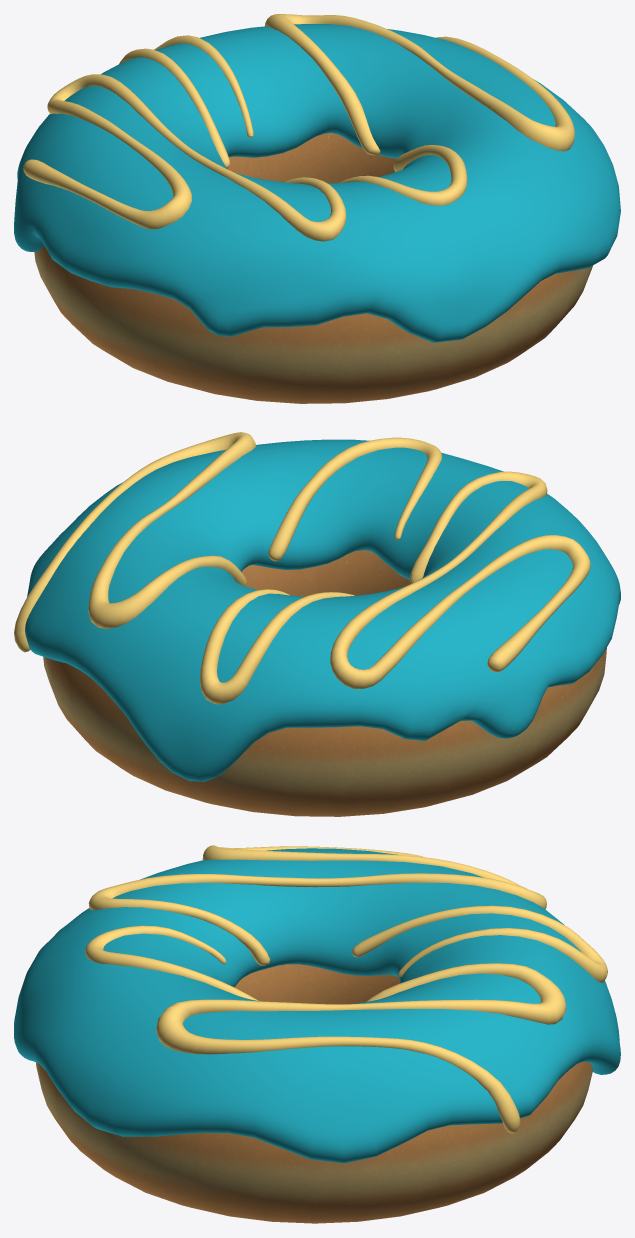
Rendered from Donut.fbx.
3 renders of one model, top to bottom at view 1: azimuth 30°, elevation 25°; view 2: azimuth 150°, elevation 25°; view 3: azimuth 270°, elevation 25°, orthographic.
Visible parts, largest first — view 1: Donut; view 2: Donut; view 3: Donut.
Boxes of the visible parts, x1,y1,x2,y2 form: Donut: (14,14,620,403); Donut: (14,432,620,816); Donut: (14,845,620,1223).
Size of the model in its own units: 238 by 89.88 by 241.
1 material, 1 textured.
